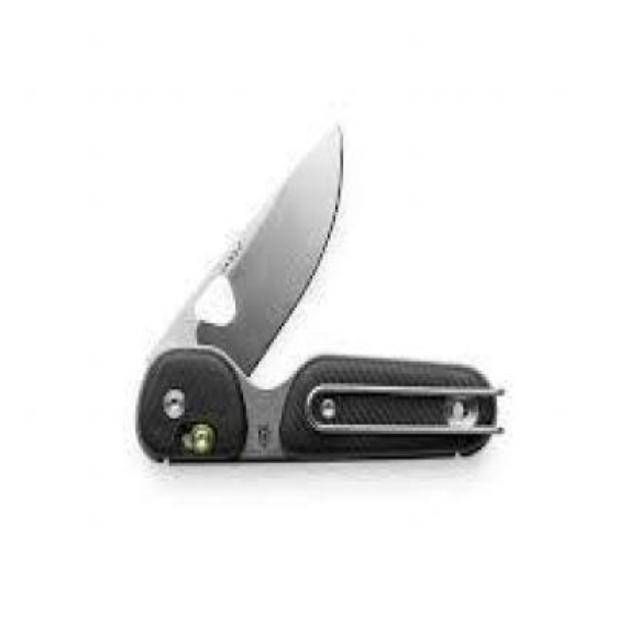Knife: (134, 130, 504, 464)
